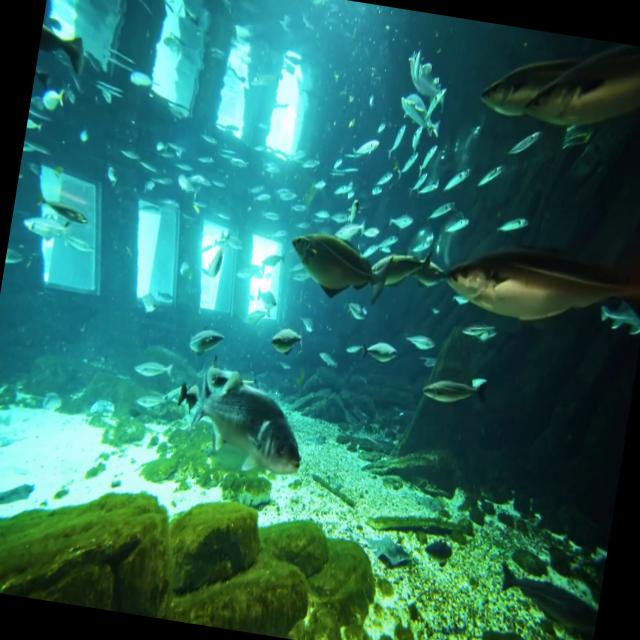fish: (437, 234, 640, 346), (169, 358, 314, 480), (527, 31, 640, 153), (278, 218, 398, 310), (478, 42, 572, 134)
